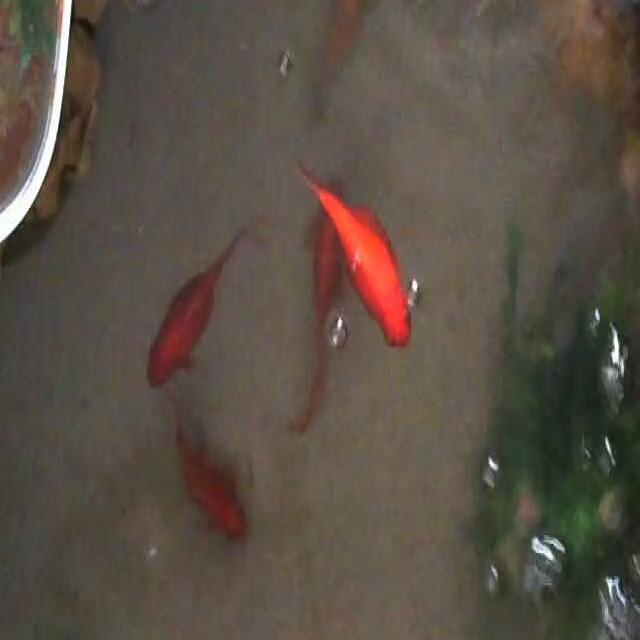fish: (294, 156, 417, 352), (145, 222, 259, 390), (285, 200, 347, 432), (166, 390, 250, 544), (314, 0, 365, 103)
